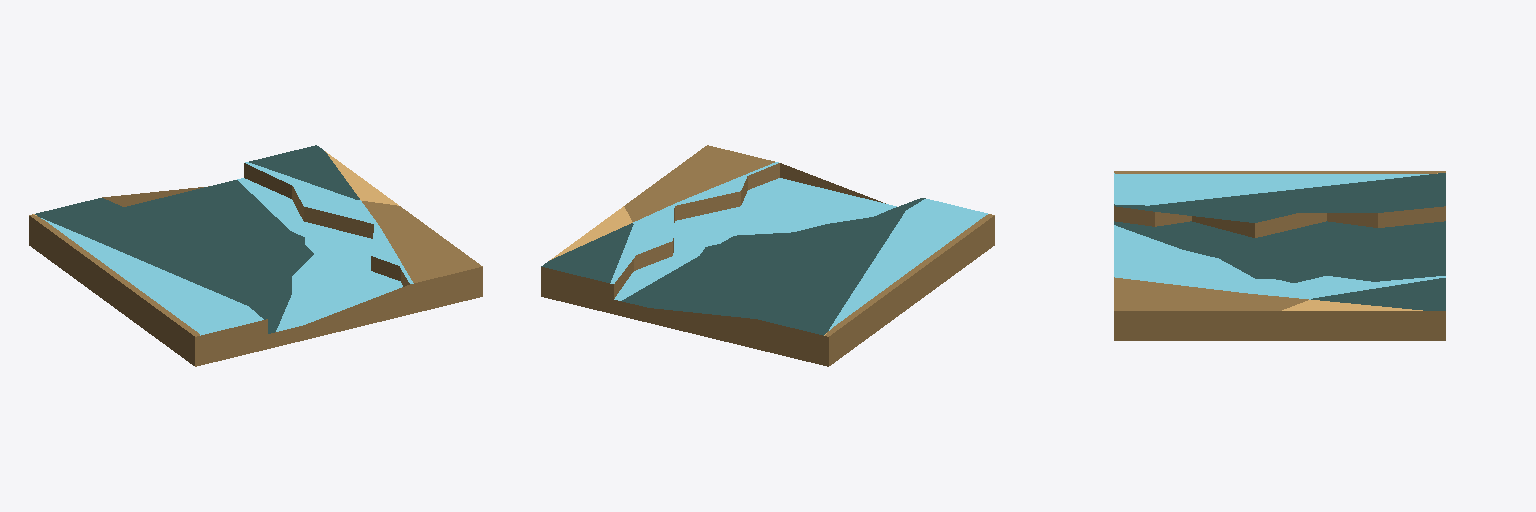
The picture shows the model from 3 angles: view 1: azimuth 30°, elevation 25°; view 2: azimuth 150°, elevation 25°; view 3: azimuth 270°, elevation 25°; orthographic projection.
Visible parts, largest first — view 1: Mesh1 Plate_River_Dirt Model; view 2: Mesh1 Plate_River_Dirt Model; view 3: Mesh1 Plate_River_Dirt Model.
Part boxes in pixels (x1,y1,x2,y2): Mesh1 Plate_River_Dirt Model: (29, 145, 482, 366); Mesh1 Plate_River_Dirt Model: (541, 145, 994, 366); Mesh1 Plate_River_Dirt Model: (1114, 171, 1445, 340).
Size of the model in its own units: 3 by 0.3 by 3.
Materials: 1 (1 with a texture image).